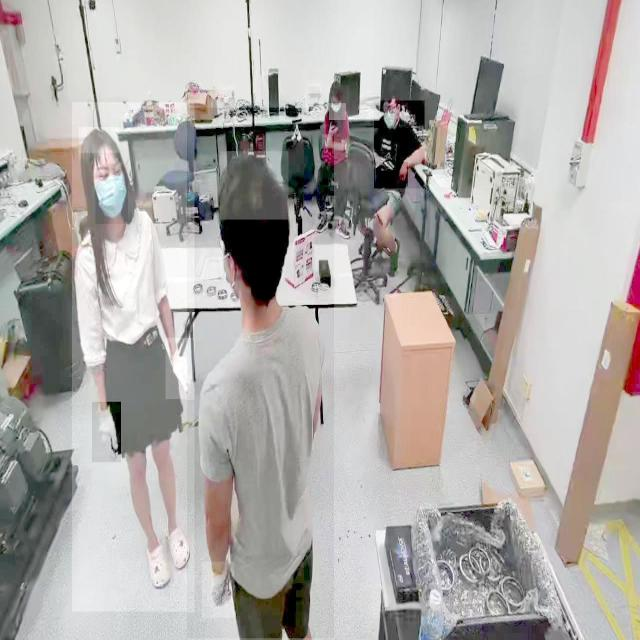face_mask: (96, 164, 128, 224), (384, 108, 398, 134), (329, 103, 346, 120)
hand_glove: (202, 562, 235, 618), (92, 402, 122, 463), (166, 338, 194, 400)
hand_noglove: (396, 162, 408, 188), (322, 134, 333, 150), (326, 120, 338, 134)
head_nohelmet: (220, 151, 289, 221), (78, 127, 120, 154), (383, 84, 399, 102), (329, 79, 344, 96)
person: (187, 108, 335, 639), (72, 102, 194, 612), (315, 85, 350, 224), (374, 100, 425, 190)
shoes: (314, 204, 330, 234), (337, 219, 353, 241)
